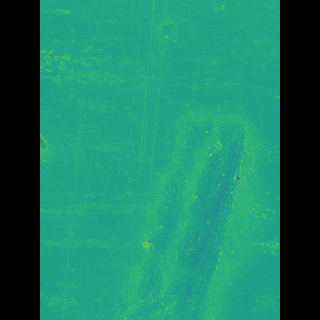Loch: (125, 102, 237, 319)
